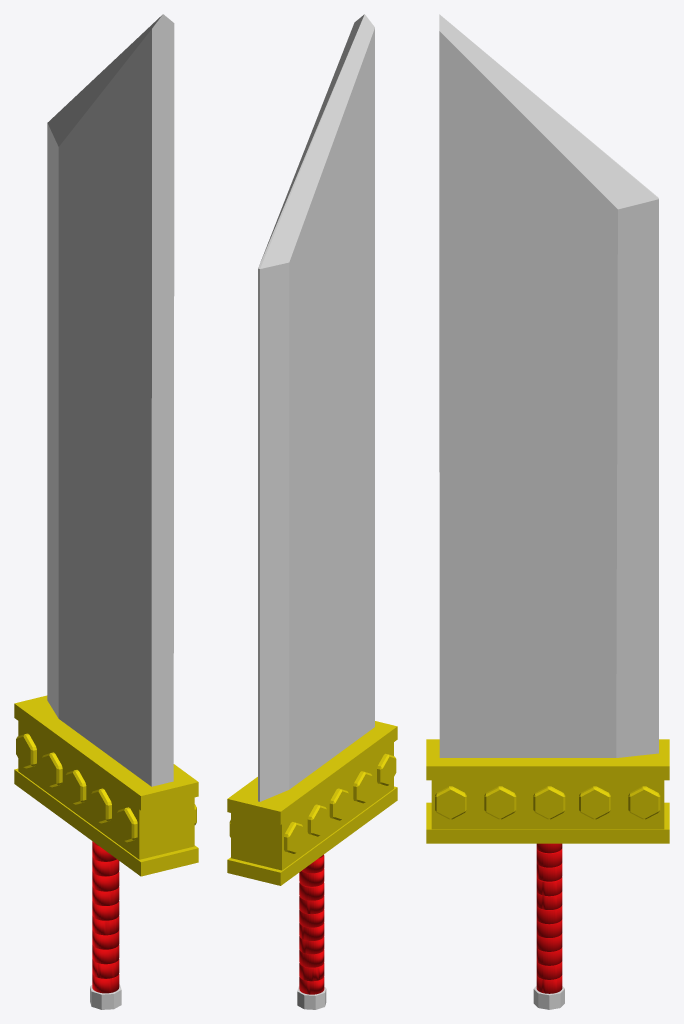
File: 良質な金属の剣.fbx
3 renders of one model, left to right at view 1: azimuth 30°, elevation 25°; view 2: azimuth 150°, elevation 25°; view 3: azimuth 270°, elevation 25°, orthographic. The views are drawn at different scales.
Visible parts, largest first — view 1: 円; view 2: 円; view 3: 円.
Boxes of the visible parts, <box> form: 円: <box>14,14,198,1009</box>; 円: <box>227,14,397,1009</box>; 円: <box>426,14,669,1009</box>.
Bounding box in the file's own units: 78.34 × 1182 × 263.
